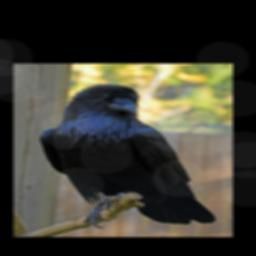Crow: (39, 83, 215, 229)
